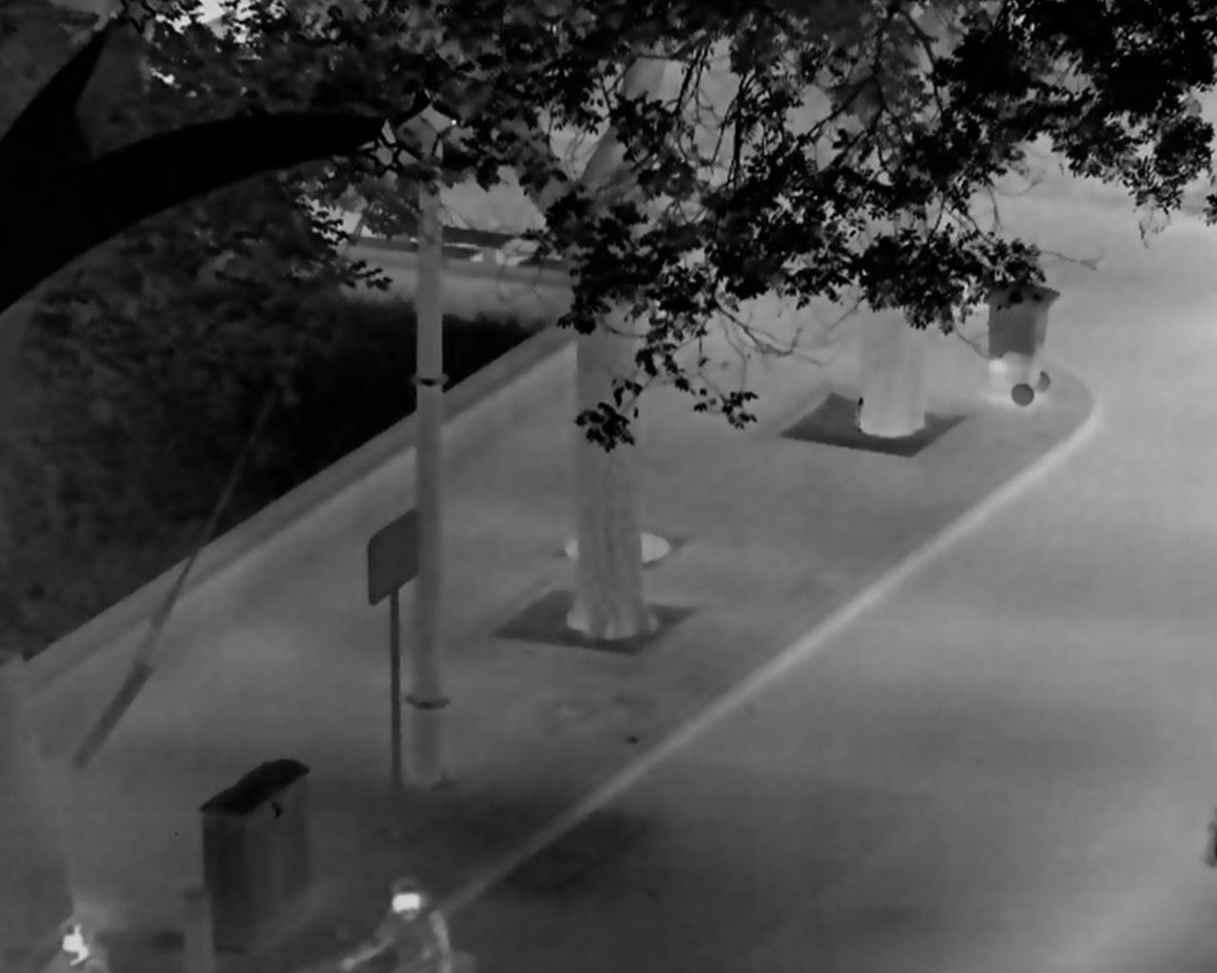person: (338, 875, 457, 973), (35, 919, 111, 973)
